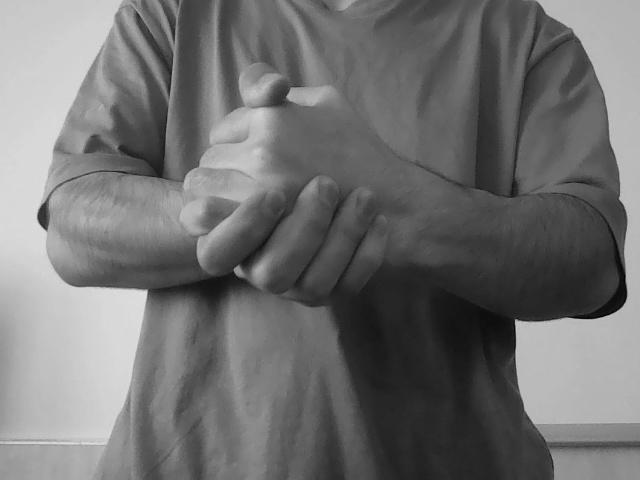friend: (183, 59, 414, 310)
